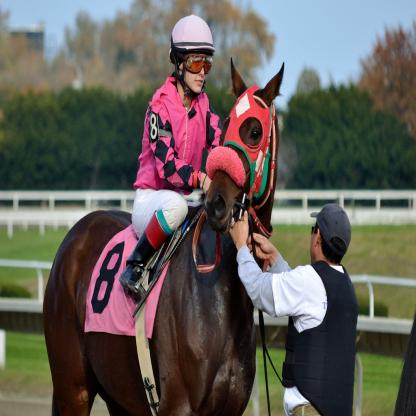Helmet: (171, 18, 214, 88)
